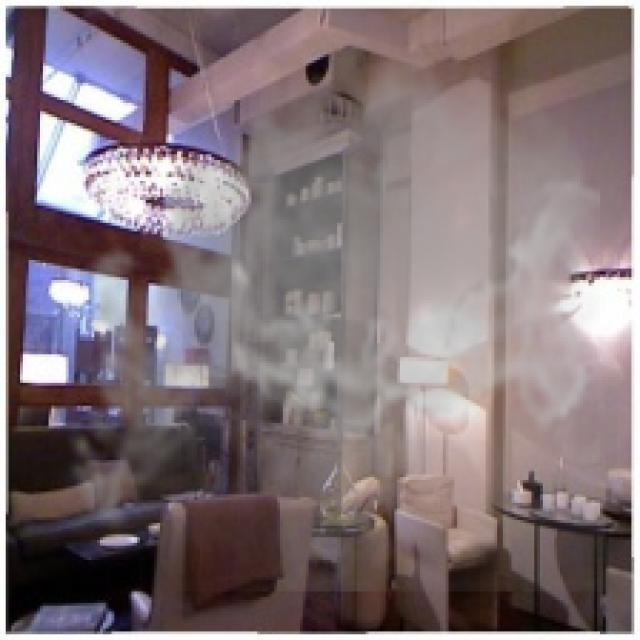smoke: (51, 35, 606, 592)
